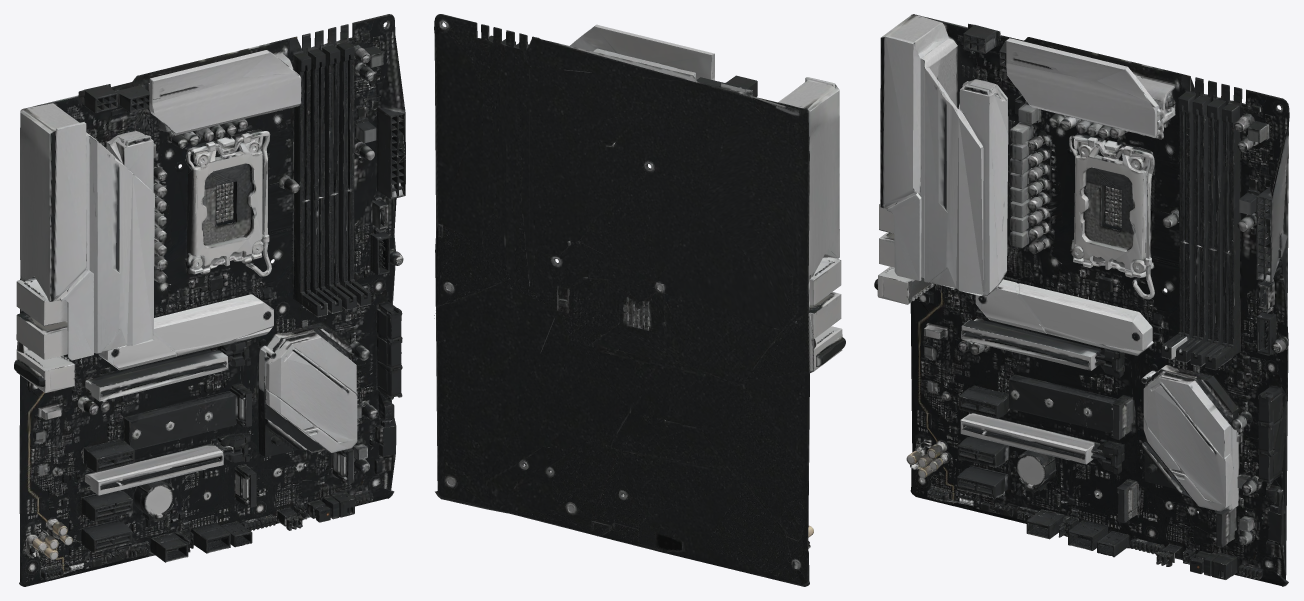
The model's file is motherboard.glb.
3 renders of one model, left to right at view 1: azimuth 30°, elevation 25°; view 2: azimuth 150°, elevation 25°; view 3: azimuth 330°, elevation 25°, orthographic.
Parts seen in each view (by area): view 1: Mesh_0; view 2: Mesh_0; view 3: Mesh_0.
Boxes of the visible parts, box(x1,y1,x2,y2) form: Mesh_0: box(14, 14, 405, 586); Mesh_0: box(434, 14, 845, 586); Mesh_0: box(874, 14, 1289, 586).
Bounding box in the file's own units: 1.55 × 1.9 × 0.2402.
Materials: 1 (1 with a texture image).
